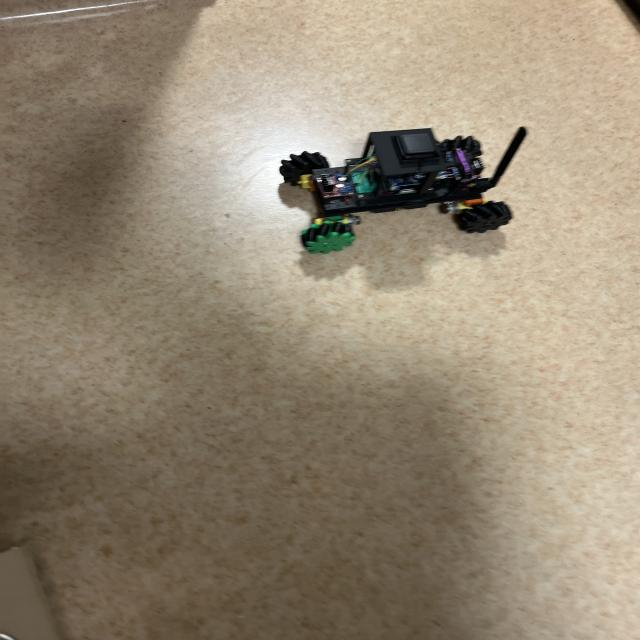robot: (280, 128, 527, 253)
